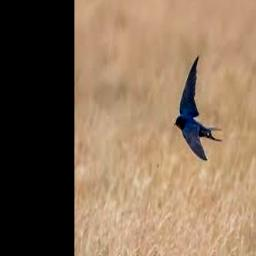Swallow: (175, 55, 222, 159)
